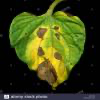Tomato Early blight leaf: (10, 2, 83, 91)
